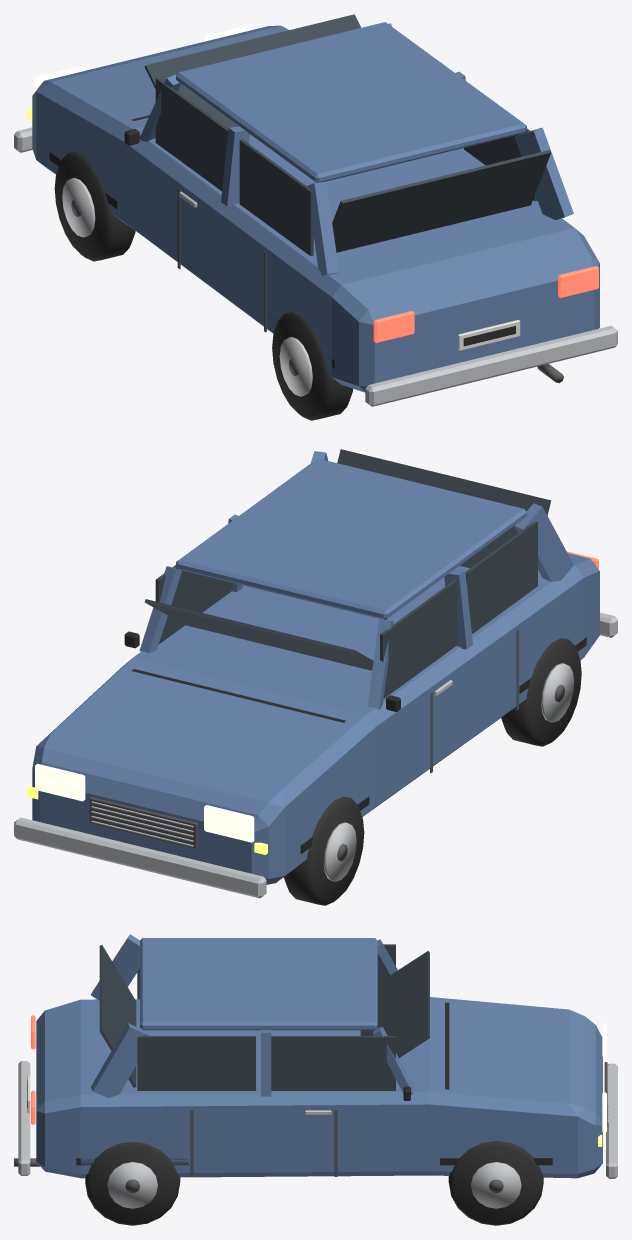
The model's file is v_car_blue.glb.
3 renders of one model, top to bottom at view 1: azimuth 30°, elevation 25°; view 2: azimuth 150°, elevation 25°; view 3: azimuth 270°, elevation 25°, orthographic. The views are drawn at different scales.
Visible parts, largest first — view 1: Auto_Blue; view 2: Auto_Blue; view 3: Auto_Blue.
Part boxes in pixels (x1=…): Auto_Blue: x1=14, y1=14, x2=617, y2=420; Auto_Blue: x1=14, y1=449, x2=617, y2=905; Auto_Blue: x1=14, y1=934, x2=617, y2=1225.
Size of what is drawn, in the model's own units: 1.78 by 1.45 by 4.07.
